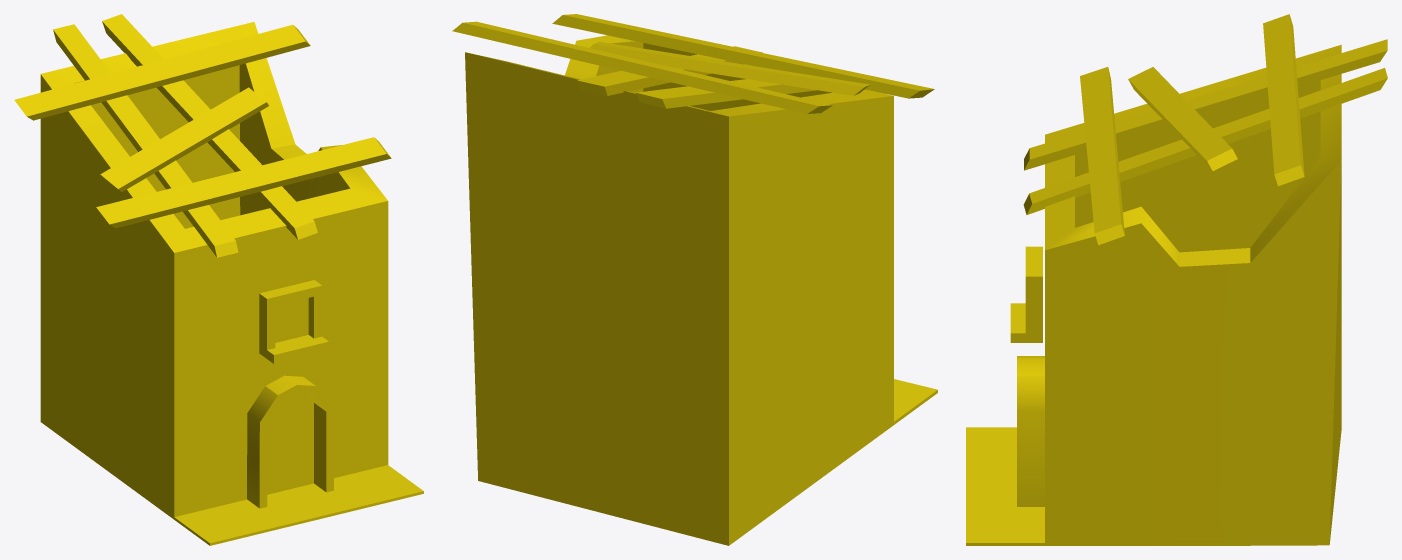
File: Predio 2.fbx
3 renders of one model, left to right at view 1: azimuth 30°, elevation 25°; view 2: azimuth 150°, elevation 25°; view 3: azimuth 270°, elevation 25°, orthographic. The views are drawn at different scales.
Parts seen in each view (by area): view 1: pCube171; view 2: pCube171; view 3: pCube171.
Part boxes in pixels (x1,y1,x2,y2): pCube171: (14, 14, 423, 545); pCube171: (452, 14, 937, 545); pCube171: (966, 14, 1387, 545).
Bounding box in the file's own units: 787 × 958 × 890.
